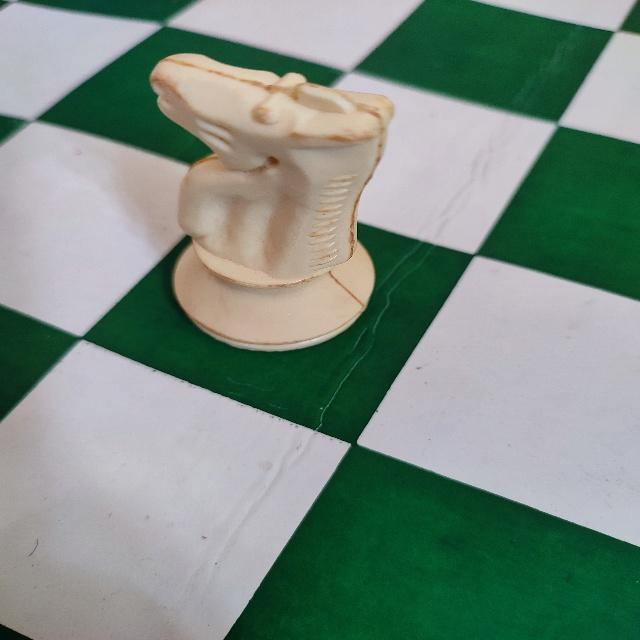Knight: (147, 49, 398, 357)
